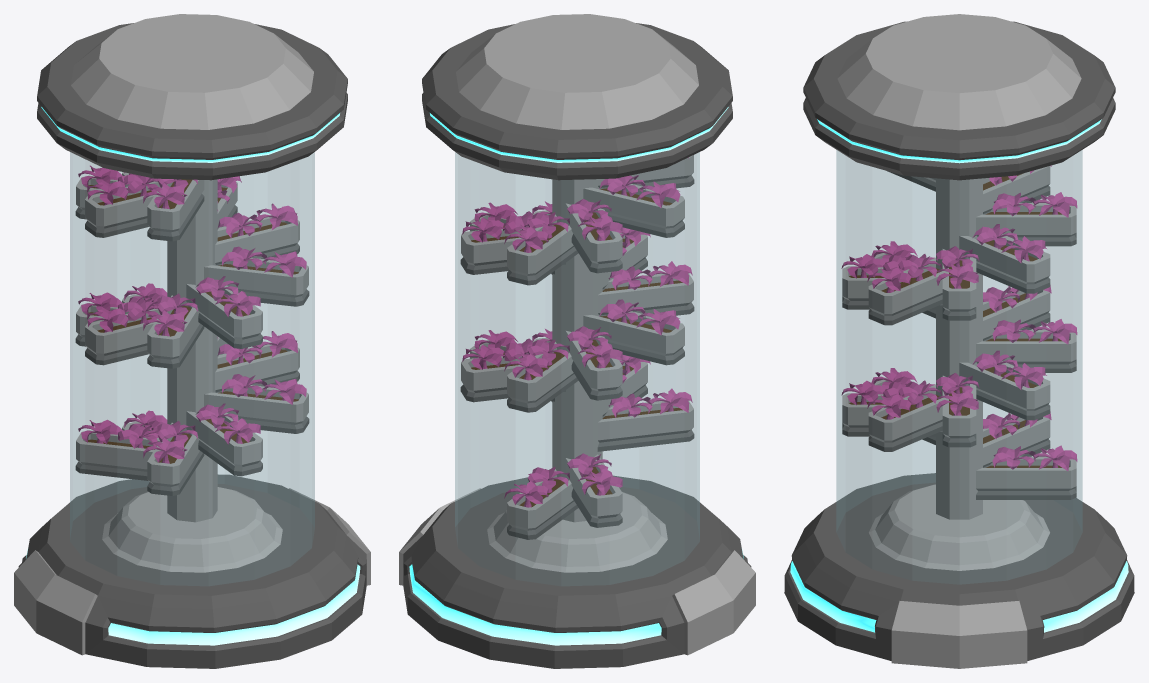
File: SM_HydroponicsScienceContainer.fbx
The picture shows the model from 3 angles, left to right: view 1: azimuth 30°, elevation 25°; view 2: azimuth 150°, elevation 25°; view 3: azimuth 270°, elevation 25°; orthographic projection.
Visible parts, largest first — view 1: SM_HydroponicsContainer; view 2: SM_HydroponicsContainer; view 3: SM_HydroponicsContainer.
Boxes of the visible parts, x1,y1,x2,y2 form: SM_HydroponicsContainer: (14, 14, 370, 668); SM_HydroponicsContainer: (399, 14, 755, 668); SM_HydroponicsContainer: (784, 14, 1134, 668).
Size of the model in its own units: 131 by 218 by 128.
